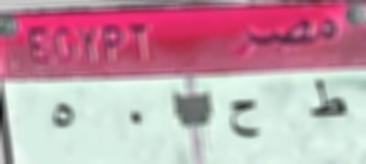0: (125, 108, 150, 131)
5: (47, 98, 81, 130)
7aa: (222, 94, 264, 144)
Taa: (308, 77, 347, 126)
